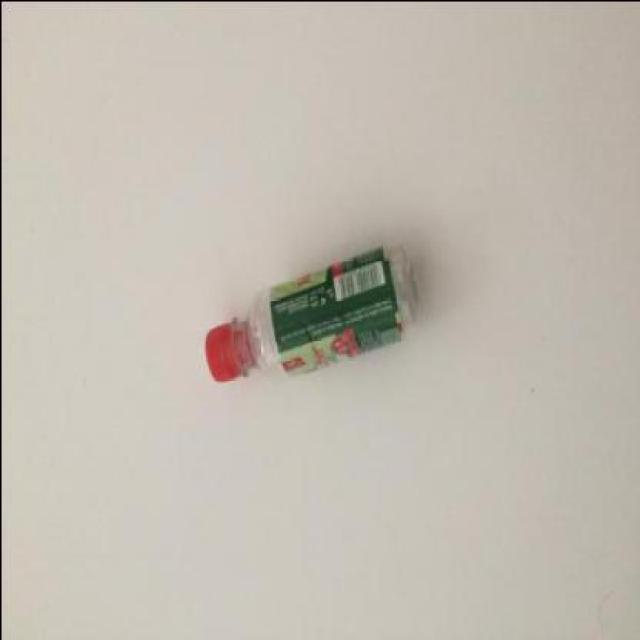PLASTIC: (204, 244, 418, 376), (266, 244, 402, 374), (202, 320, 244, 380)
